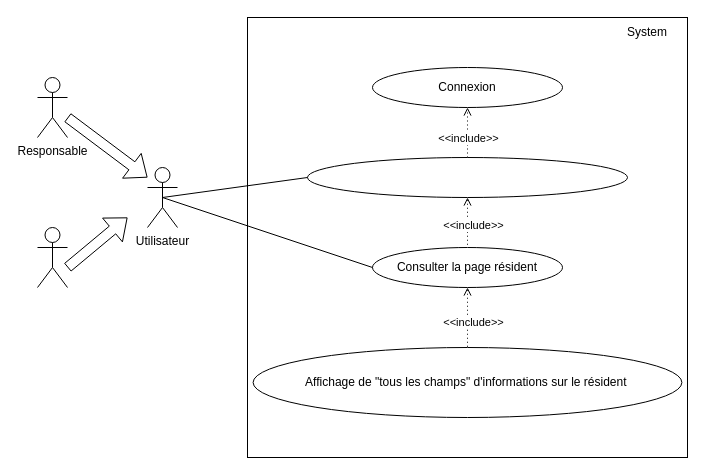
This 705x475 diagram has some shape labels left out. Here are the shapes that lost their labels. From the top down, the box of each, then its label:
(306, 156, 628, 198): Accéder à la liste des résidents de l'EPHAD
(36, 226, 68, 288): Employé
